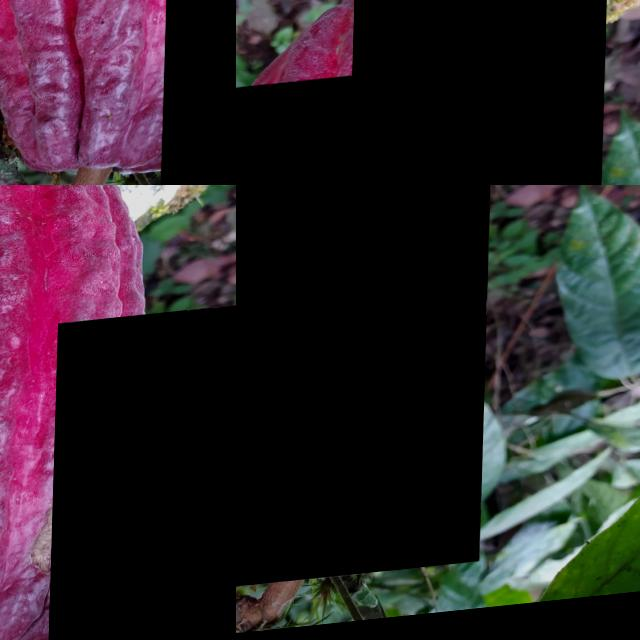Monilia: (343, 0, 608, 185)
Sana: (236, 185, 495, 597), (51, 312, 236, 640), (164, 0, 236, 185), (236, 80, 356, 185)
